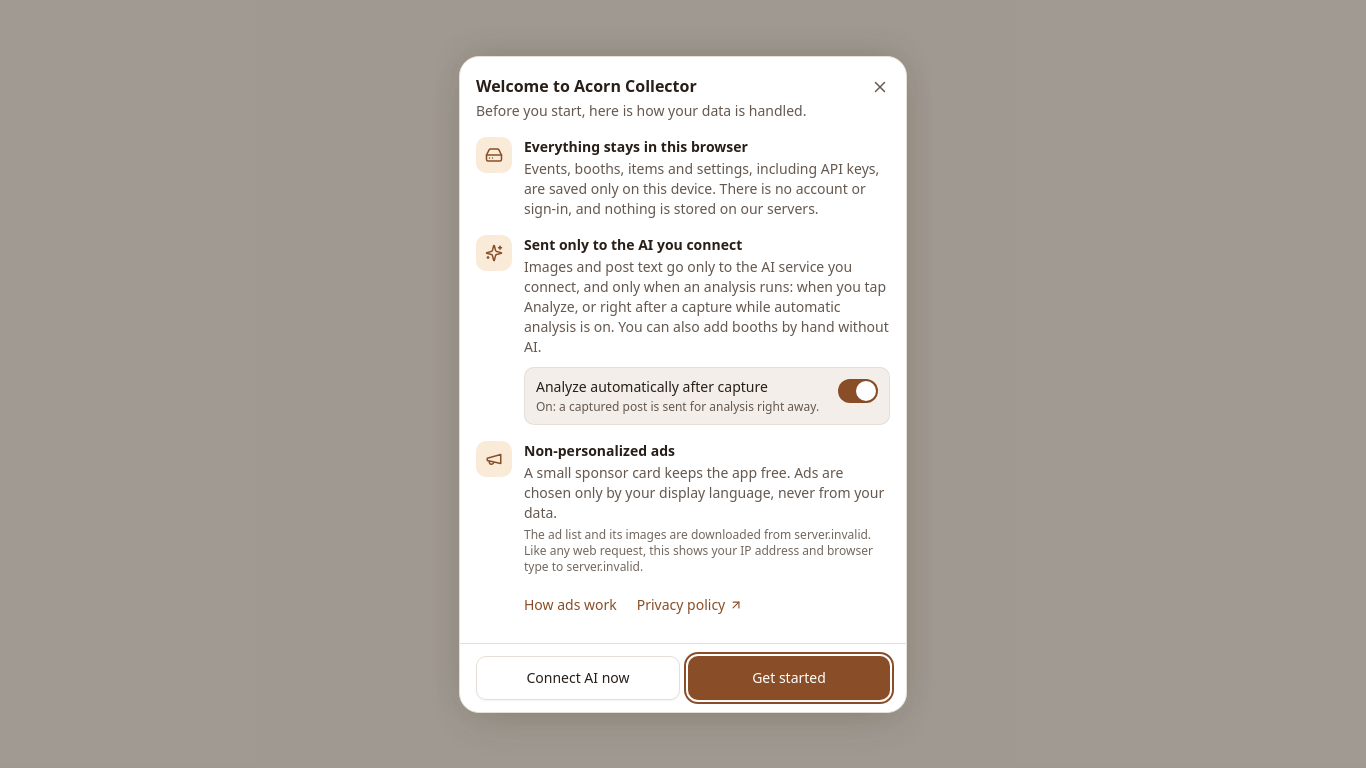
it: FirstRunNotice › says that captures are analyzed automatically, and lets the user turn it off
Click the switch.
click(858, 390)  # box [838,378,878,402]
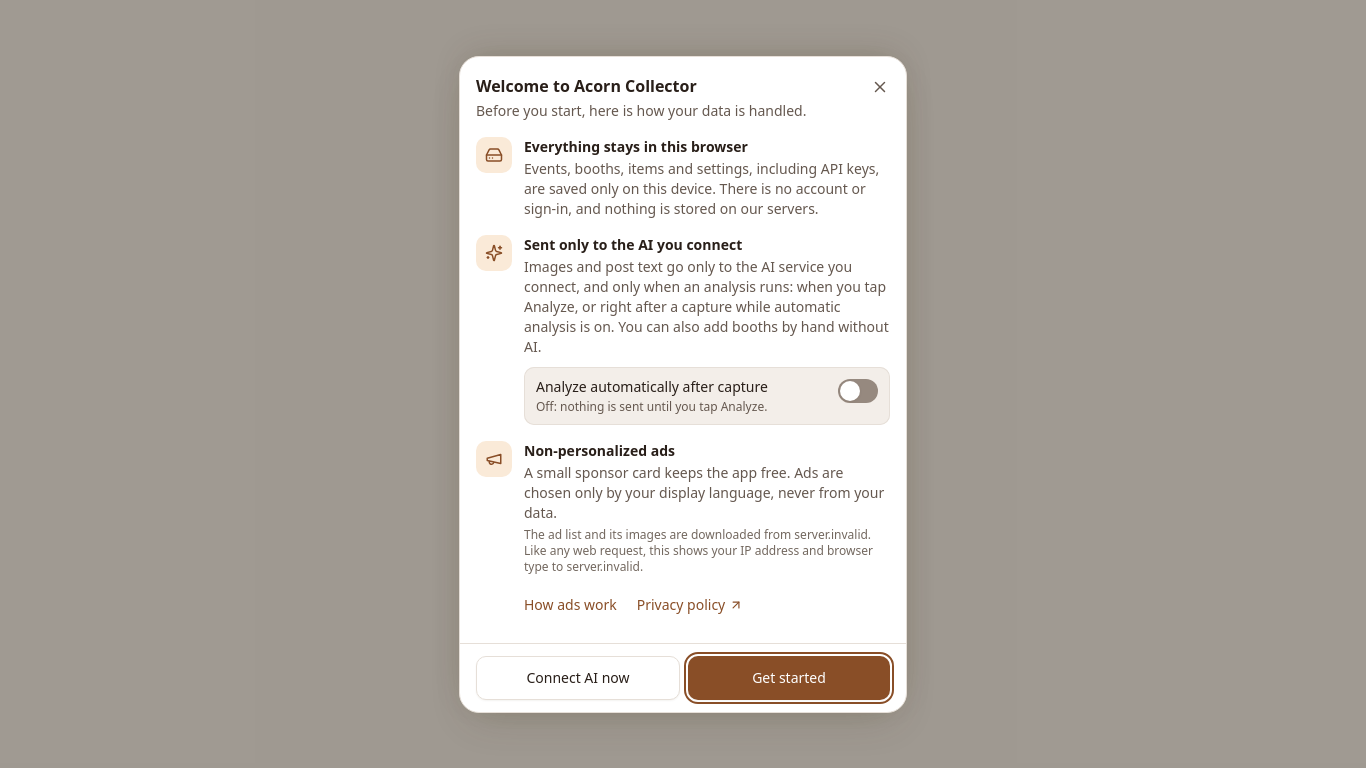
Now the text "Off: nothing is sent until you tap Analyze." is shown, box [536,398,767,414]
